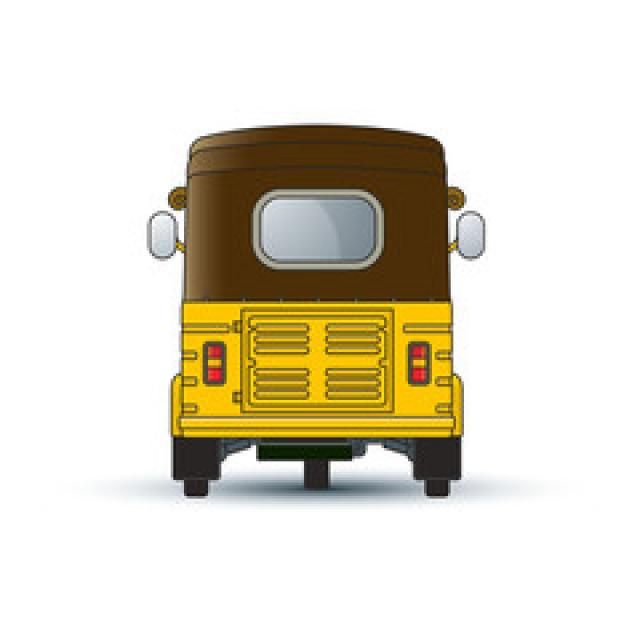three wheeler: (149, 125, 483, 496)
